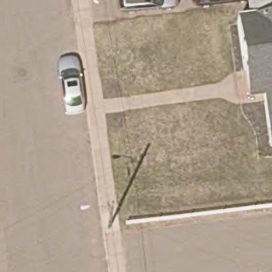DT: (80, 199, 117, 233)
